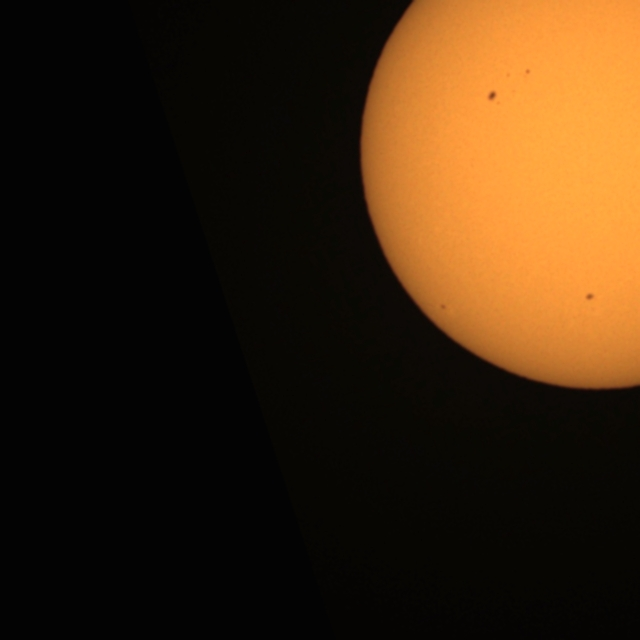sunspot: (486, 89, 502, 106), (584, 292, 596, 302), (524, 67, 532, 76), (439, 303, 447, 311), (505, 71, 512, 79)
